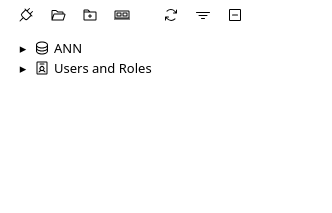
Scenario: the catalog's tree › reads the catalog again, and closes its tree, by the explorer's toolbar [DESIGN] D33
The width and height of the screenshot is (332, 213).
Later steps or results of the test are not shown.
What coordinates should you click on to do the following:
click the button named "Open ANN"
I would click on:
 (23, 48)
Its box is [16,39,30,57].
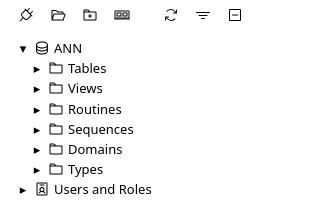
What coordinates should you click on to do the following:
click the button named "Collapse All"
I would click on:
 (235, 15)
Its box is [221,4,249,26].
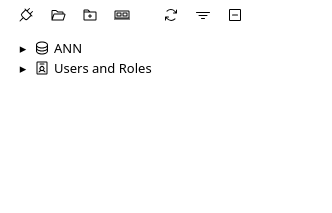
Expected: the text "Tables" is gone
